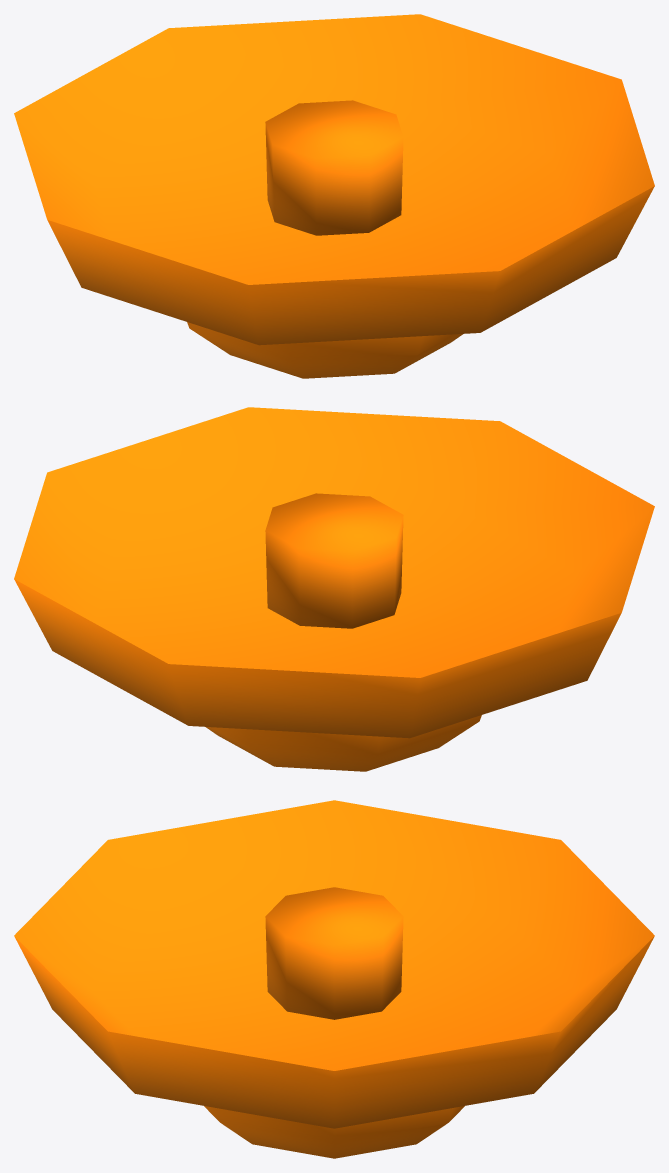
File: bronze_pommel_167.glb
3 views of the same model, one above another, from view 1: azimuth 30°, elevation 25°; view 2: azimuth 150°, elevation 25°; view 3: azimuth 270°, elevation 25° (orthographic). The views are drawn at different scales.
Visible parts, largest first — view 1: bronze_pommel_167; view 2: bronze_pommel_167; view 3: bronze_pommel_167.
Part boxes in pixels (x1,y1,x2,y2): bronze_pommel_167: (14, 14, 654, 378); bronze_pommel_167: (14, 407, 654, 771); bronze_pommel_167: (14, 800, 654, 1158).
Size of the model in its own units: 2.4 by 0.8521 by 2.4.
Materials: 1 (1 with a texture image).
